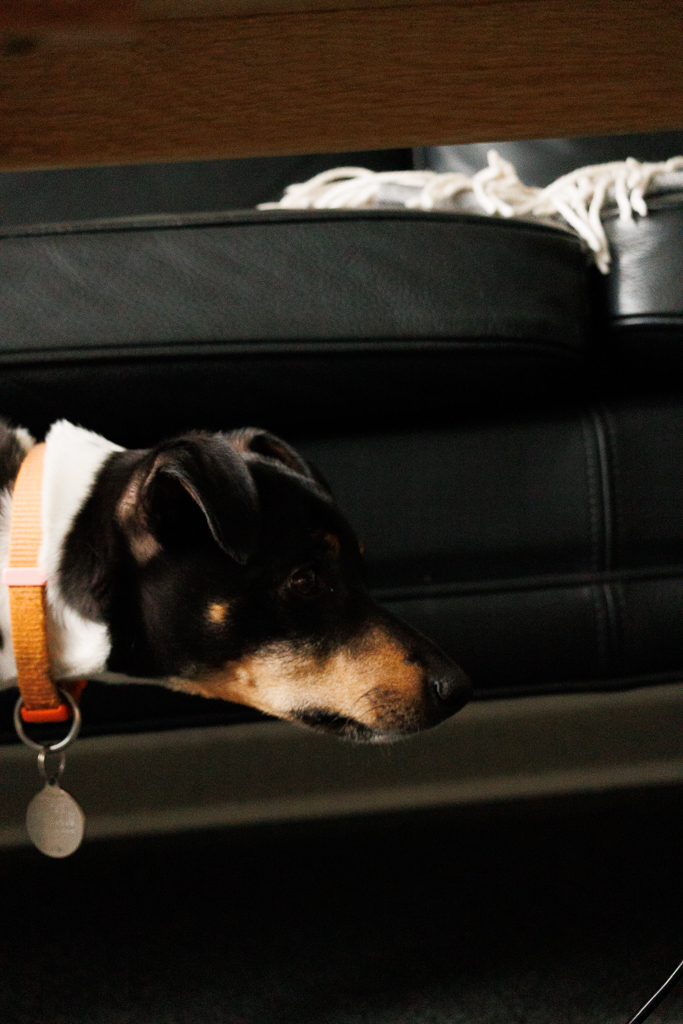Dog: (0, 391, 487, 871)
